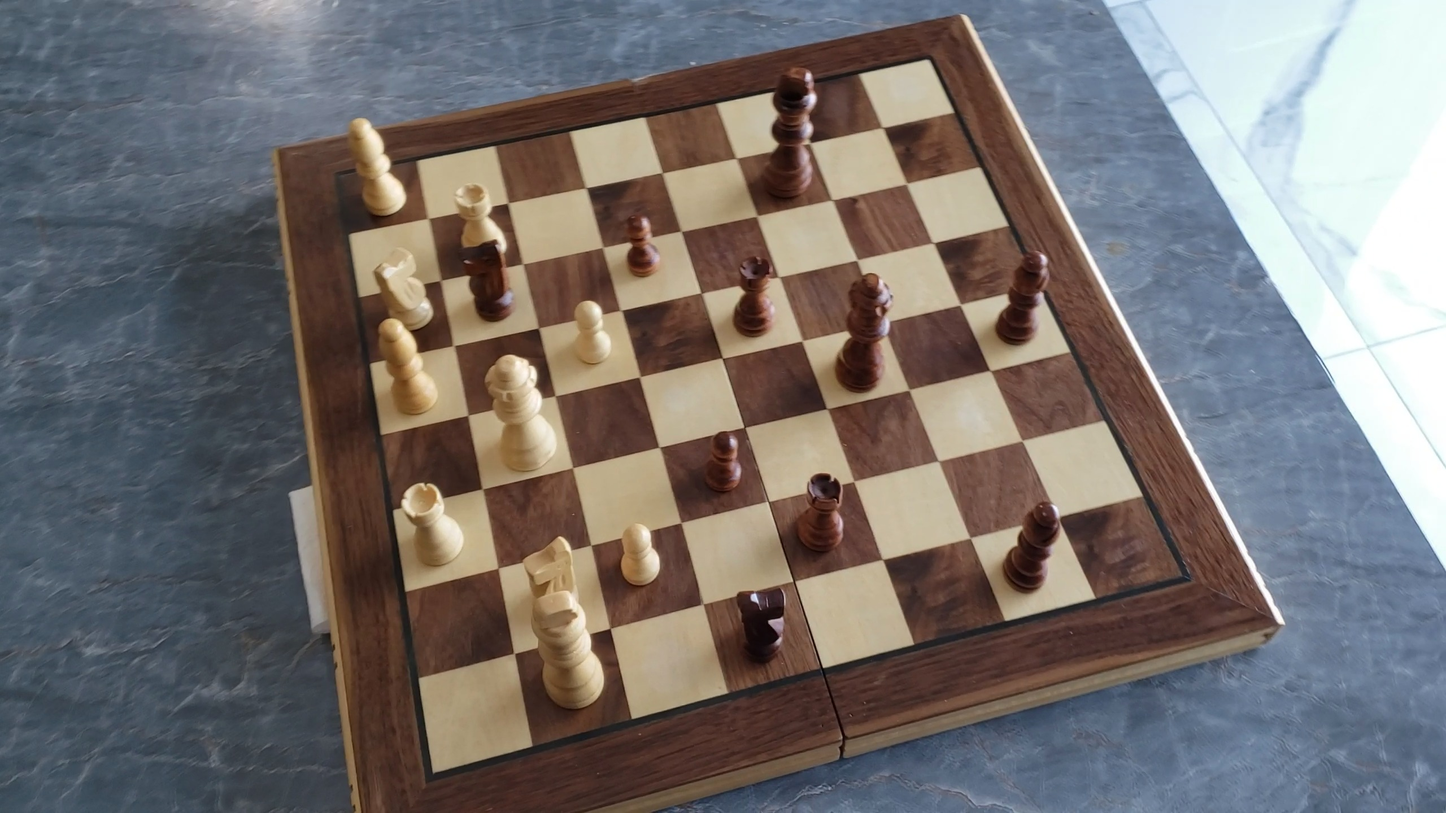black-bishop: (994, 250, 1060, 351), (998, 501, 1065, 595)
black-king: (760, 62, 821, 200)
black-knight: (460, 237, 517, 322), (732, 584, 790, 666)
black-pawn: (702, 427, 746, 497), (621, 209, 663, 279)
black-queen: (833, 271, 901, 394)
black-rook: (792, 470, 848, 555), (731, 251, 779, 338)
white-bishop: (341, 112, 410, 220), (373, 316, 443, 418)
white-king: (528, 588, 612, 714)
white-knight: (368, 248, 435, 329), (520, 530, 583, 609)
white-pawn: (615, 518, 665, 590), (567, 296, 616, 369)
white-queen: (482, 352, 561, 475)
white-rook: (397, 480, 468, 571), (450, 179, 507, 257)
